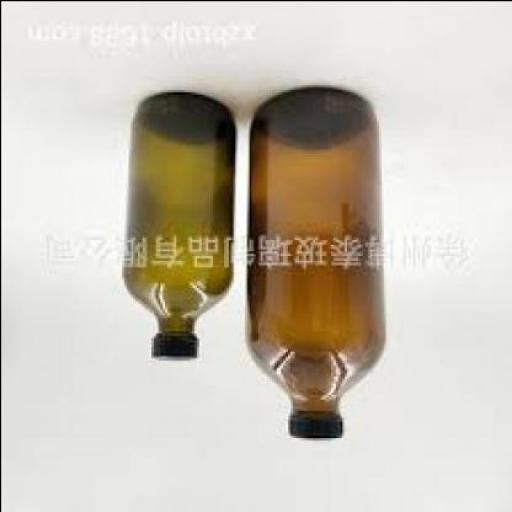glass: (251, 89, 387, 416), (125, 96, 239, 334)
metal: (292, 416, 343, 438), (155, 339, 198, 361)
